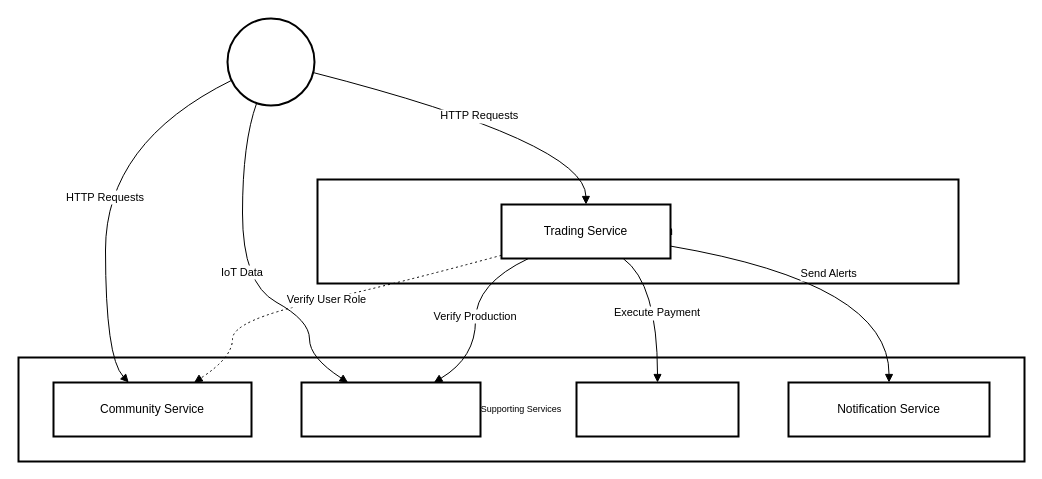
Some shapes in this 1042 by 479 pixel diagram are drawn without their labels. The centre of each missing label's shape, as x and y in pixels:
Metering Service: (390,409)
User / IoT: (270,61)
Wallet Service: (657,409)
